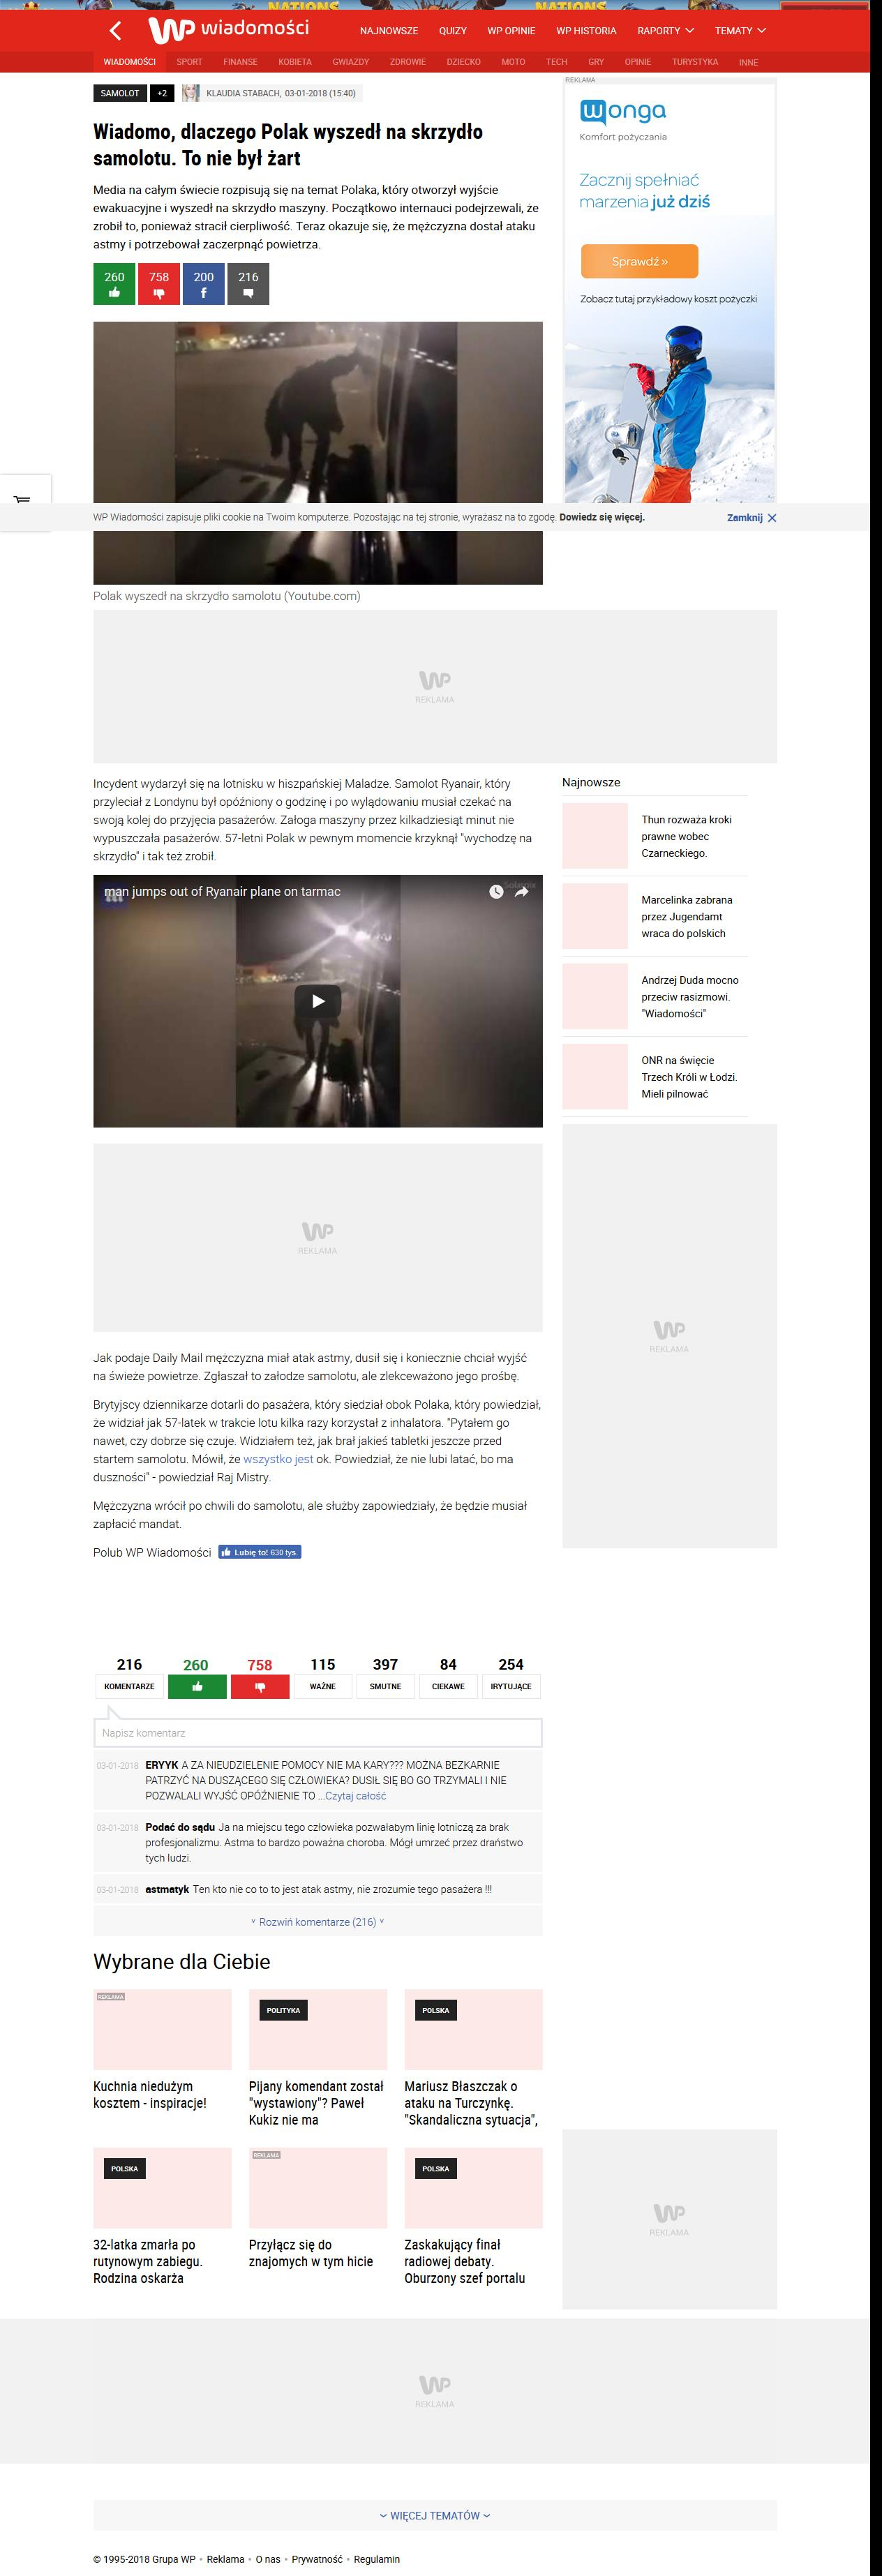title: (94, 122, 483, 169)
